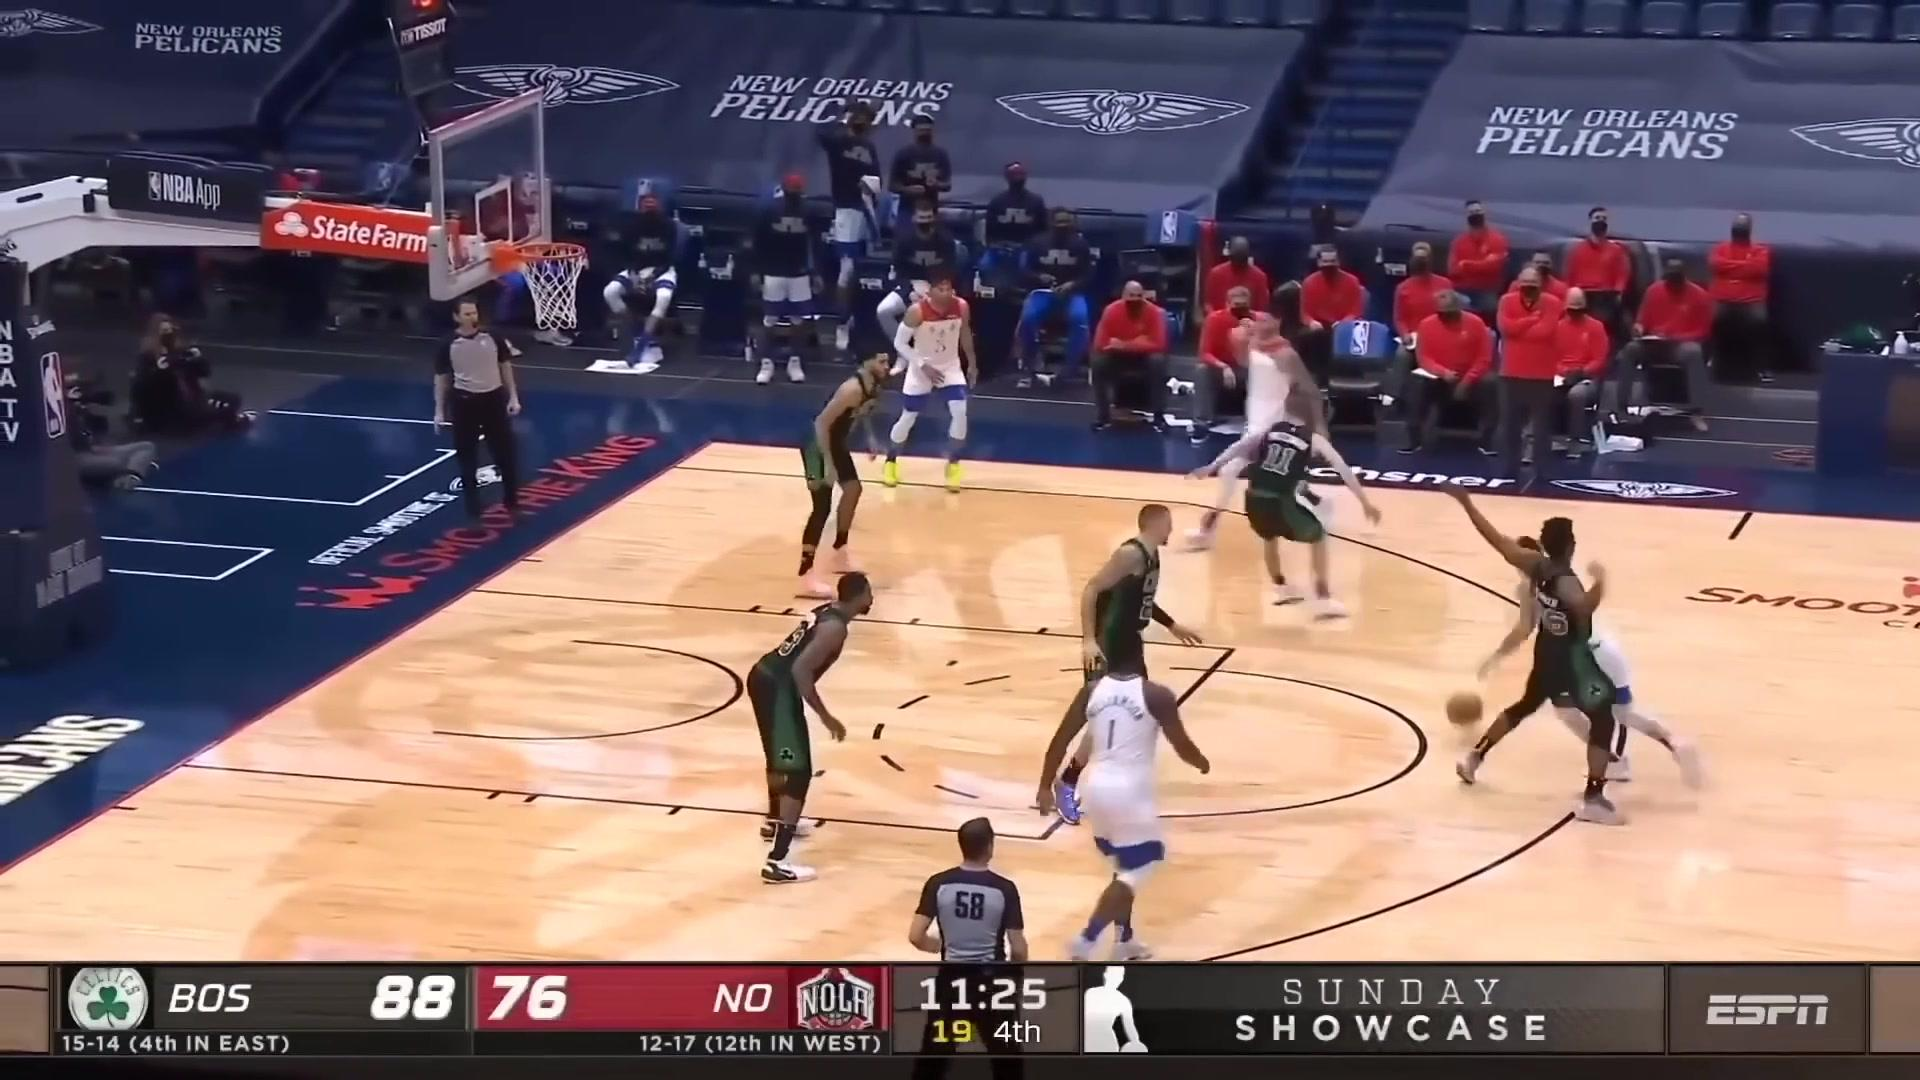foul: (1438, 494, 1693, 831)
